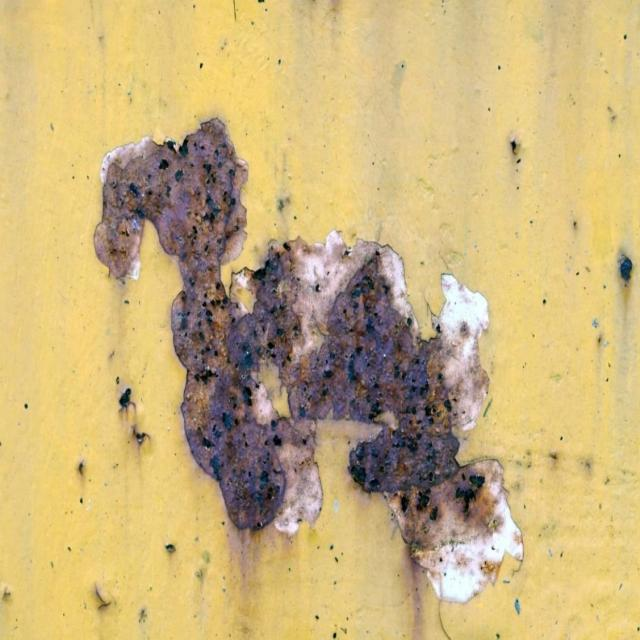Pitting Corrosion: (94, 118, 523, 602)
